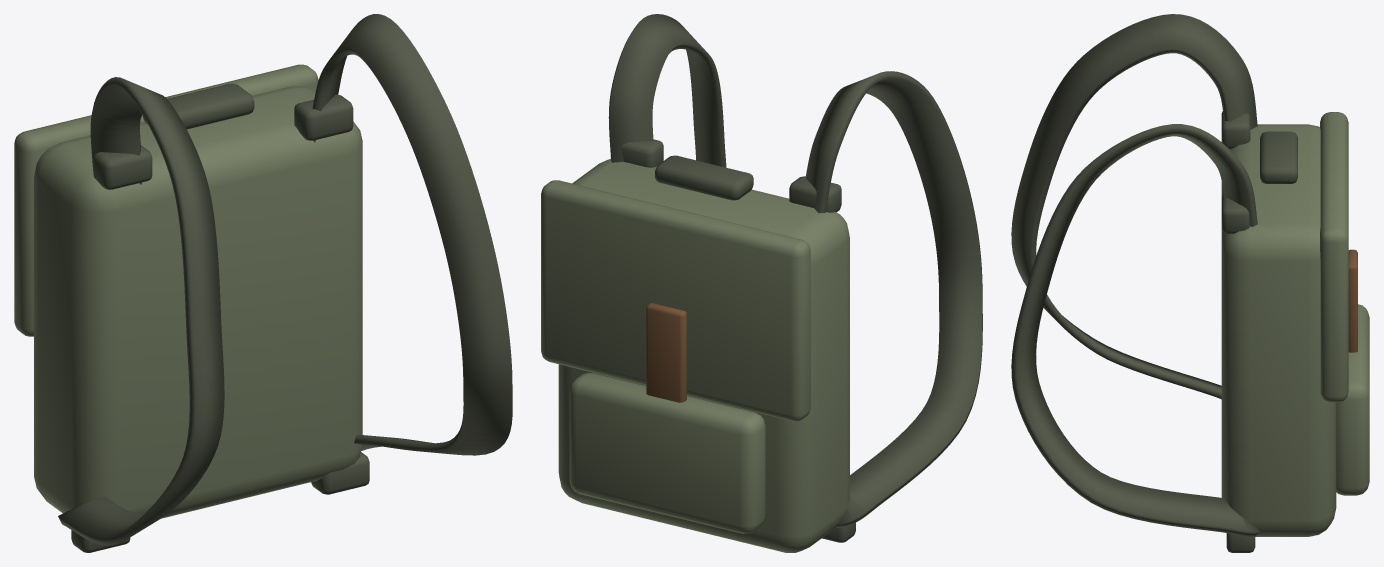
Rendered from backpack-2.glb.
The picture shows the model from 3 angles, left to right: view 1: azimuth 30°, elevation 25°; view 2: azimuth 150°, elevation 25°; view 3: azimuth 270°, elevation 25°; orthographic projection. The views are drawn at different scales.
Parts seen in each view (by area): view 1: Backpack, Straps; view 2: Backpack, Straps; view 3: Backpack, Straps.
Part boxes in pixels (x1=…): Backpack: x1=14, y1=64, x2=369, y2=552; Straps: x1=58, y1=14, x2=512, y2=545; Backpack: x1=541, y1=139, x2=855, y2=552; Straps: x1=608, y1=14, x2=982, y2=527; Backpack: x1=1221, y1=111, x2=1369, y2=552; Straps: x1=1011, y1=14, x2=1260, y2=536.
Size of the model in its own units: 0.3945 by 0.4929 by 0.3757.
